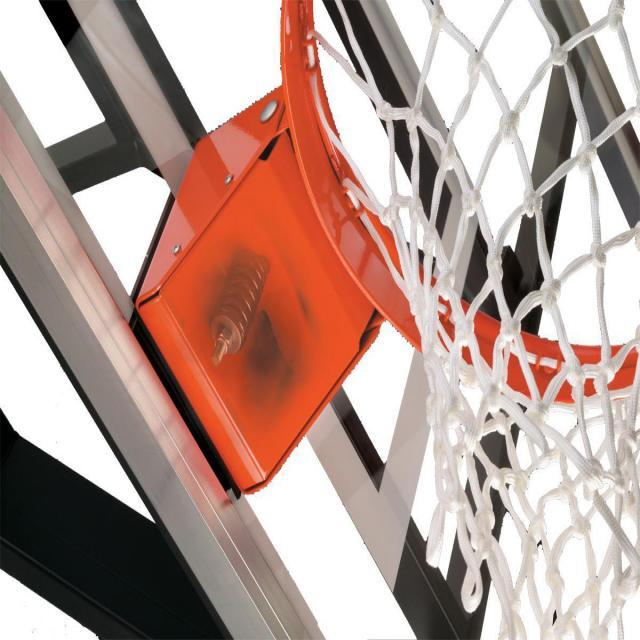hoop: (281, 0, 640, 640)
